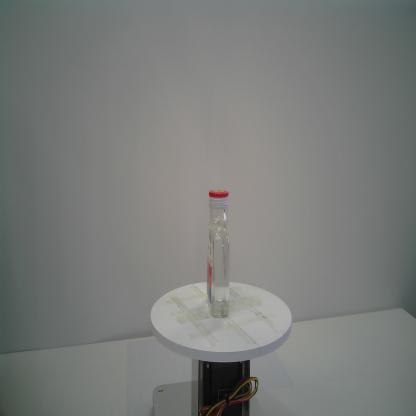Alcohol: (207, 189, 230, 318)
